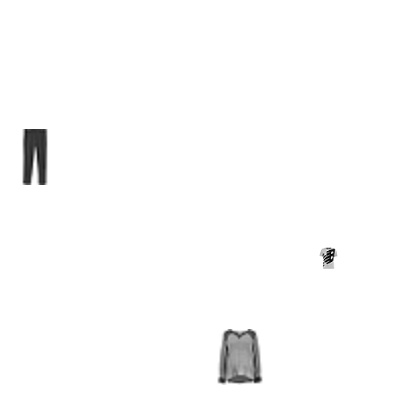0: (14, 208, 28, 222)
8: (273, 47, 385, 159)
Sandal: (173, 250, 257, 334)
Shirt: (202, 42, 258, 98), (77, 117, 99, 139)
Sneaker: (175, 109, 217, 151)
